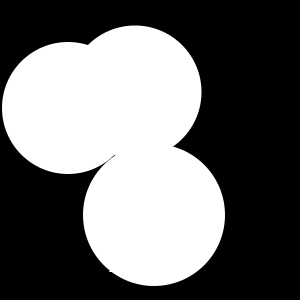rectangle: (83, 144, 225, 286), (68, 25, 202, 158), (2, 42, 134, 174)
triangle: (109, 259, 122, 272)
